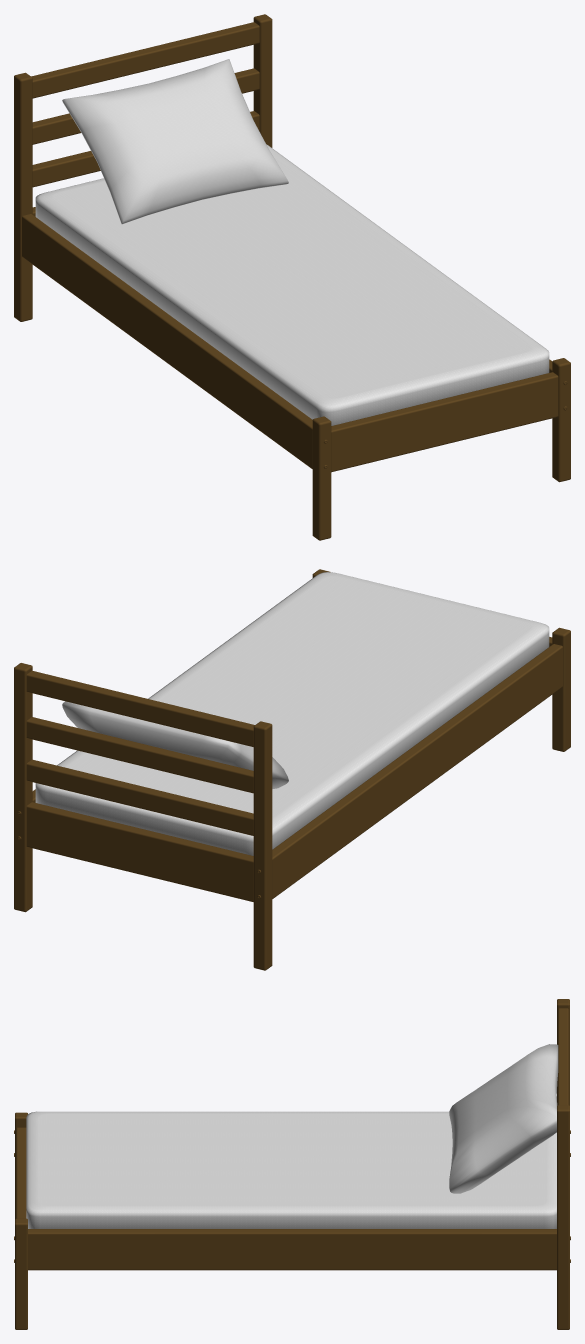
Rendered from Bed_fbx.fbx.
The picture shows the model from 3 angles, top to bottom: view 1: azimuth 30°, elevation 25°; view 2: azimuth 150°, elevation 25°; view 3: azimuth 270°, elevation 25°; orthographic projection. The views are drawn at different scales.
Parts seen in each view (by area): view 1: BedMattress, BedFrame, BedPillow; view 2: BedMattress, BedFrame, BedPillow; view 3: BedMattress, BedFrame, BedPillow.
Boxes of the visible parts, box(x1,y1,x2,y2) form: BedMattress: box(35, 144, 549, 425); BedFrame: box(14, 14, 570, 540); BedPillow: box(62, 59, 288, 224); BedMattress: box(35, 572, 549, 855); BedFrame: box(14, 569, 570, 970); BedPillow: box(62, 701, 288, 788); BedMattress: box(26, 1111, 556, 1228); BedFrame: box(14, 999, 570, 1329); BedPillow: box(449, 1044, 558, 1193).
Size of the model in its own units: 100 by 91.85 by 211.
